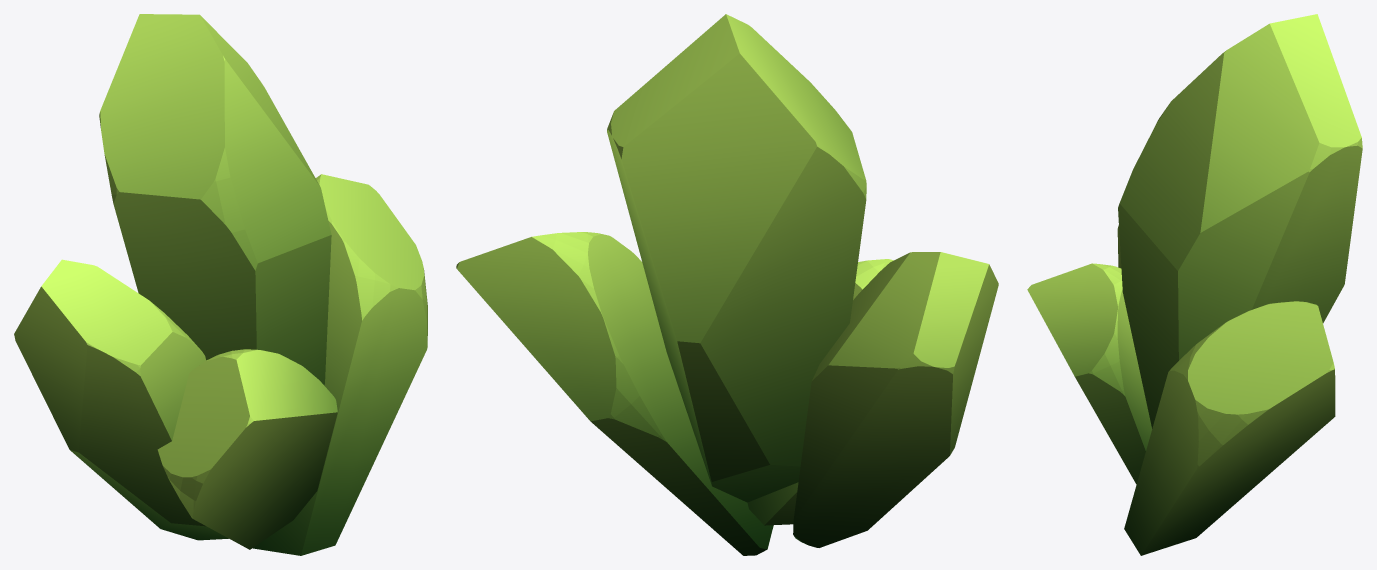
File: CRYSTALS_green_.fbx
The picture shows the model from 3 angles, left to right: view 1: azimuth 30°, elevation 25°; view 2: azimuth 150°, elevation 25°; view 3: azimuth 270°, elevation 25°; orthographic projection. The views are drawn at different scales.
Parts seen in each view (by area): view 1: Sphere.007; view 2: Sphere.007; view 3: Sphere.007.
Part boxes in pixels (<box>): Sphere.007: <box>14,14,427,555</box>; Sphere.007: <box>456,14,998,555</box>; Sphere.007: <box>1027,14,1362,555</box>.
Size of the model in its own units: 531 by 627 by 378.
Materials: 1 (1 with a texture image).
